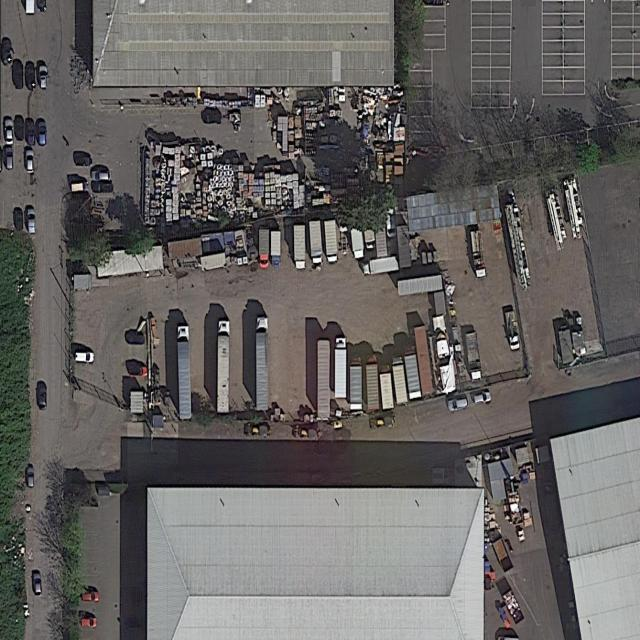large-vehicle: (176, 322, 193, 422), (255, 314, 270, 412), (216, 319, 231, 415), (402, 343, 424, 403), (333, 334, 349, 400), (391, 352, 409, 407), (465, 331, 484, 383), (470, 228, 488, 282), (363, 253, 401, 278), (307, 217, 325, 269), (365, 352, 380, 412), (503, 306, 521, 353), (323, 218, 340, 265), (379, 363, 395, 412), (350, 351, 363, 411), (350, 219, 367, 262), (293, 224, 308, 271), (257, 227, 271, 269), (270, 229, 282, 267)
small-vehicle: (446, 396, 469, 413), (472, 390, 493, 406), (1, 39, 12, 67), (91, 181, 114, 194), (32, 571, 43, 596), (27, 208, 37, 235), (5, 118, 14, 147), (26, 120, 36, 146), (125, 333, 145, 346), (75, 351, 95, 364), (202, 113, 223, 125), (91, 170, 112, 182), (129, 364, 147, 378), (80, 616, 98, 629), (81, 590, 99, 603), (38, 384, 47, 410), (14, 66, 24, 89), (38, 122, 47, 147), (25, 149, 34, 174), (5, 146, 14, 171), (71, 181, 88, 194), (14, 210, 24, 232), (27, 67, 36, 90), (39, 67, 48, 90), (16, 117, 24, 141), (76, 156, 93, 167), (27, 466, 35, 488)
